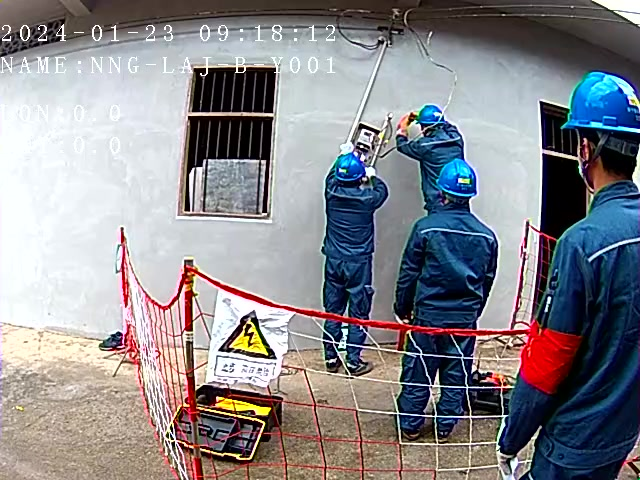badge: (515, 325, 587, 392)
downsuit: (396, 328, 479, 437), (322, 263, 375, 362)
halt: (554, 76, 640, 197), (436, 159, 479, 203), (332, 153, 369, 184), (417, 104, 445, 136)
inear: (574, 132, 598, 175)
longglove: (396, 111, 415, 136)
person: (496, 67, 640, 480), (395, 158, 502, 444), (319, 153, 390, 377), (404, 99, 466, 201)
upsuit: (505, 179, 640, 479), (397, 208, 500, 320), (320, 156, 391, 261), (396, 120, 466, 192)
wglove: (492, 442, 516, 472), (337, 140, 354, 153), (364, 165, 377, 179)
